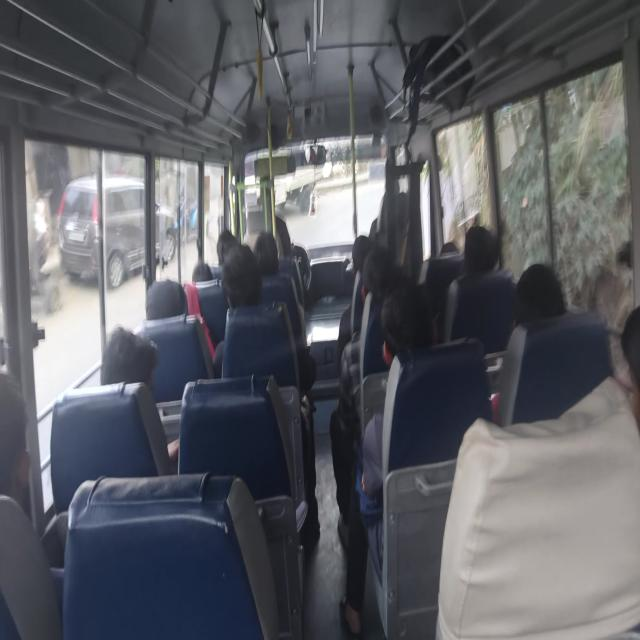person: (338, 281, 436, 637), (212, 242, 320, 540), (330, 245, 396, 532), (0, 372, 64, 570), (100, 324, 180, 465), (444, 224, 513, 350), (212, 243, 263, 376), (0, 372, 31, 509), (100, 325, 158, 388), (512, 262, 566, 329), (620, 304, 639, 428), (145, 278, 189, 320), (216, 228, 238, 265), (191, 260, 213, 282)
